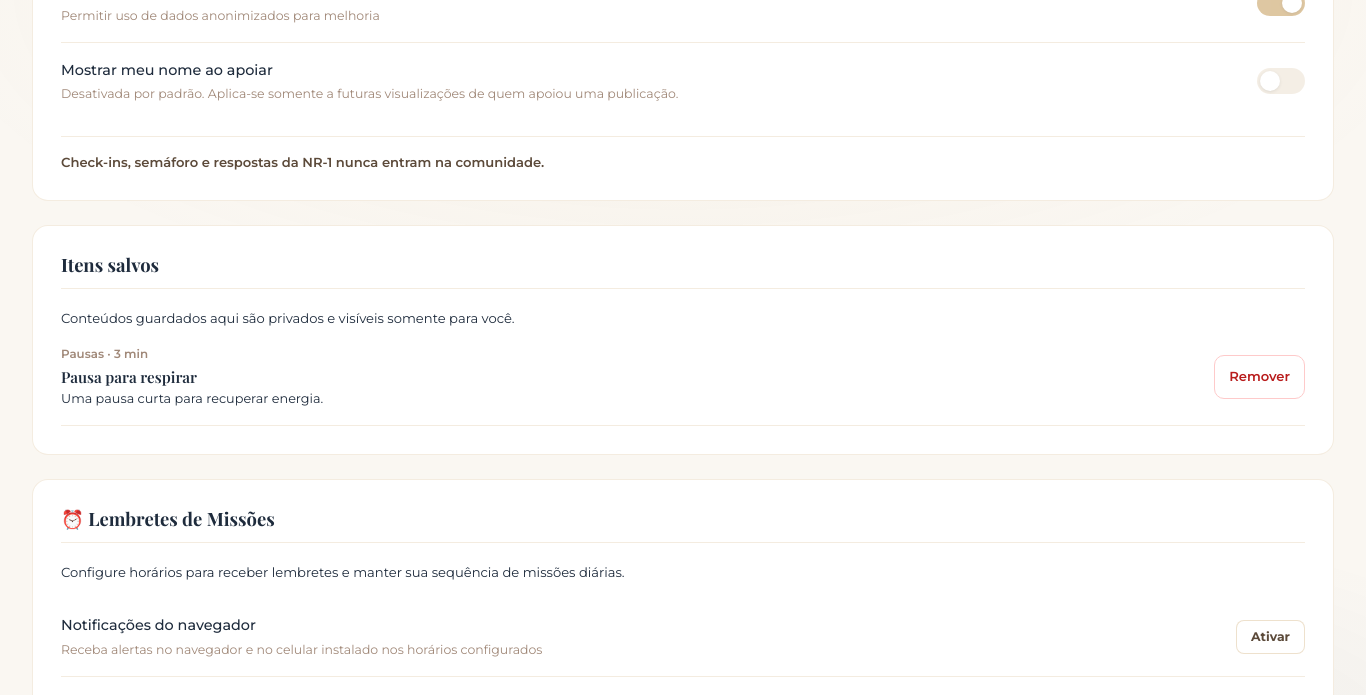
Test: profile saved community items › renders a compact saved list and removes an item through the existing private route
(page scrolled)
Check: the heading "Pausa para respirar" is shown, box [61,367,197,387]
Check: the text "Pausas · 3 min" is shown, box [61,347,148,361]
Click the button "Remover" at (1260, 377), box [1214,355,1305,399]
(page scrolled)
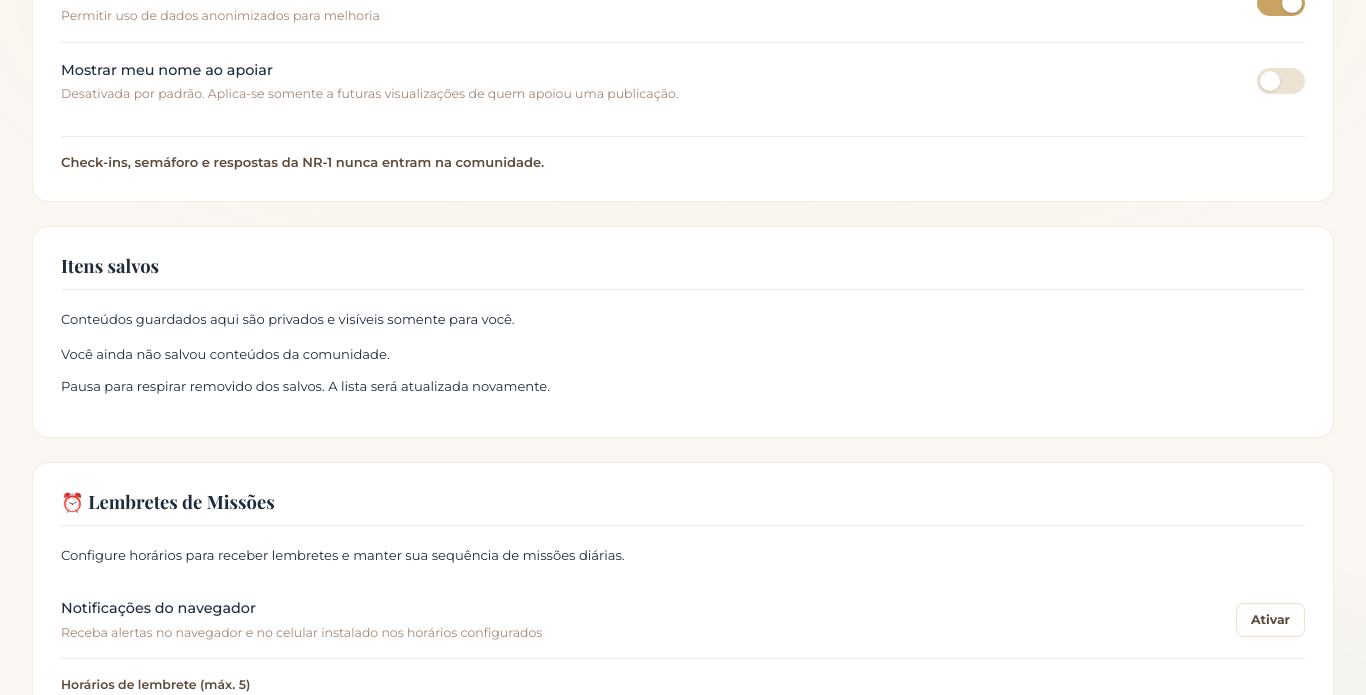
Check: the message shows "removido dos salvos", box [61,378,550,394]
